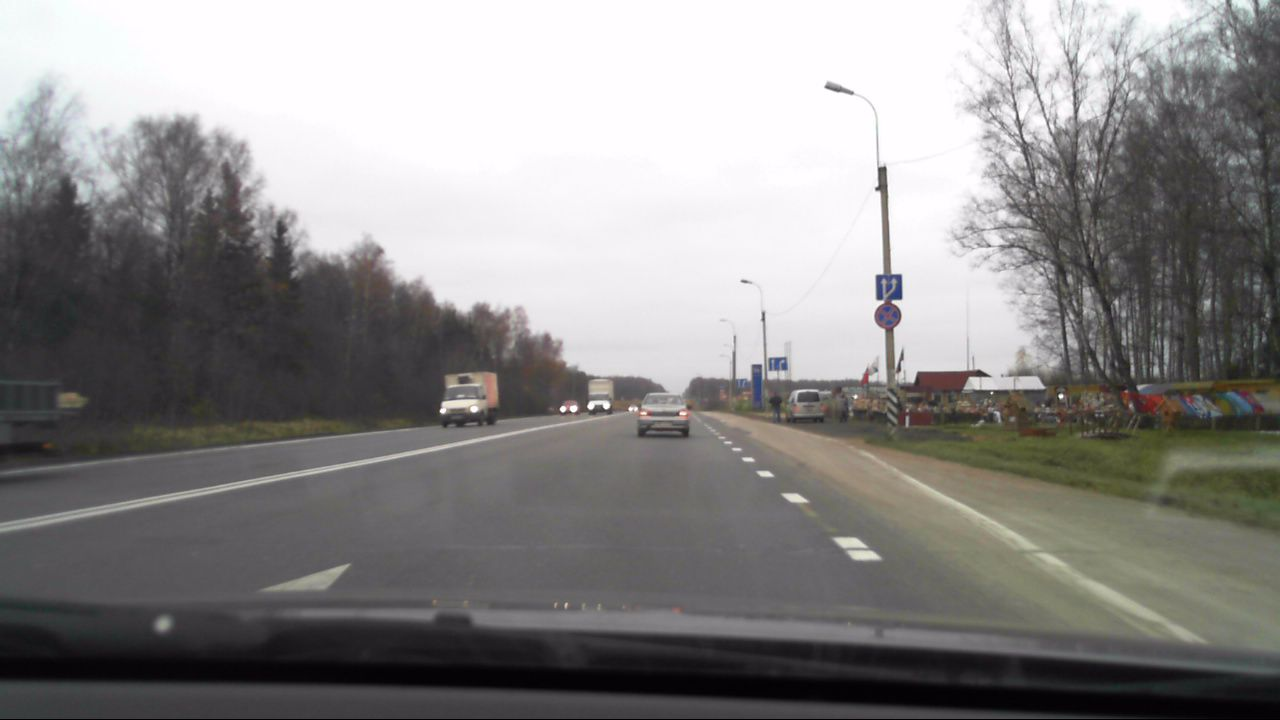No Parking: (873, 303, 901, 329)
